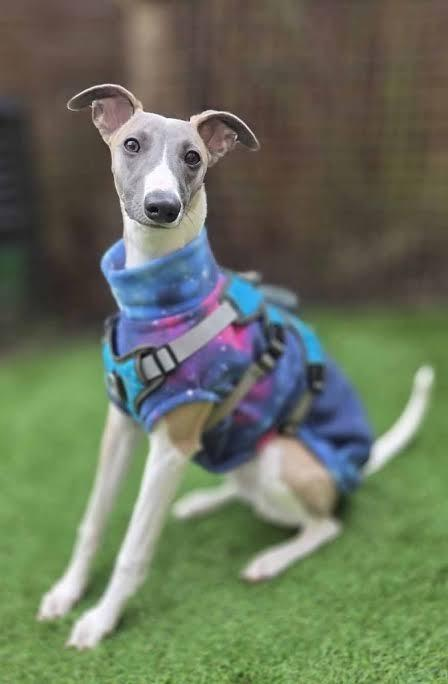adult_dog: (34, 80, 438, 653)
